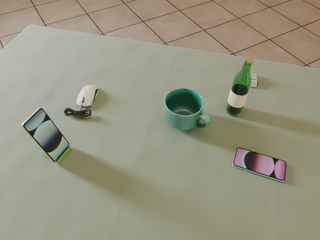bottle: (226, 56, 254, 116)
cup: (164, 88, 211, 130)
mouse: (76, 85, 98, 108)
phone: (22, 108, 69, 162), (233, 147, 287, 182)
toy_car: (250, 73, 258, 87)
